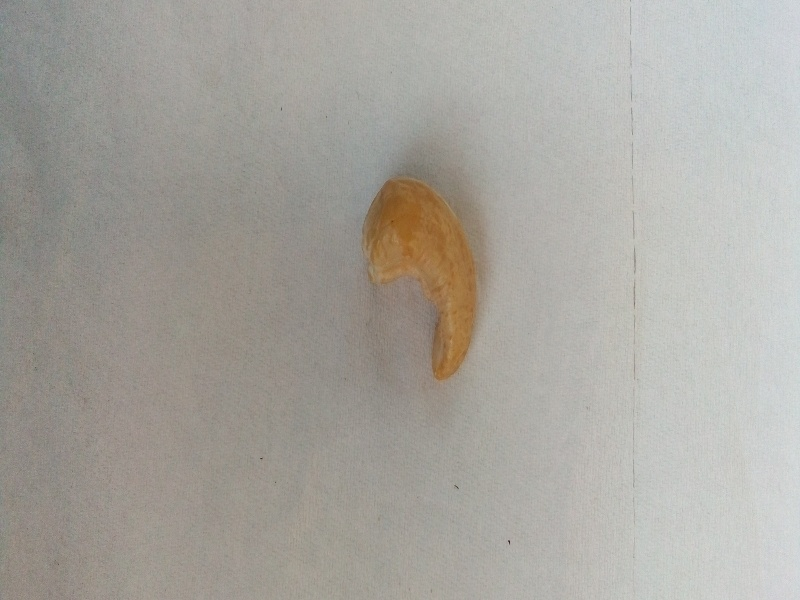cashew: (338, 147, 508, 401)
